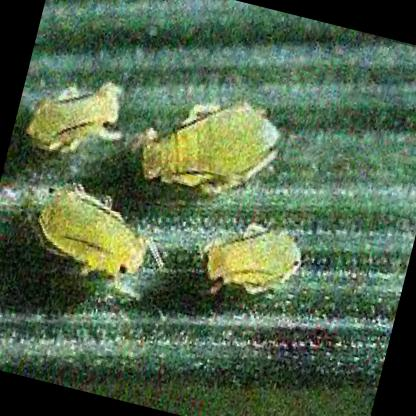schizaphis graminum: (131, 101, 280, 194), (35, 186, 162, 280), (25, 83, 120, 154), (203, 229, 303, 295)
